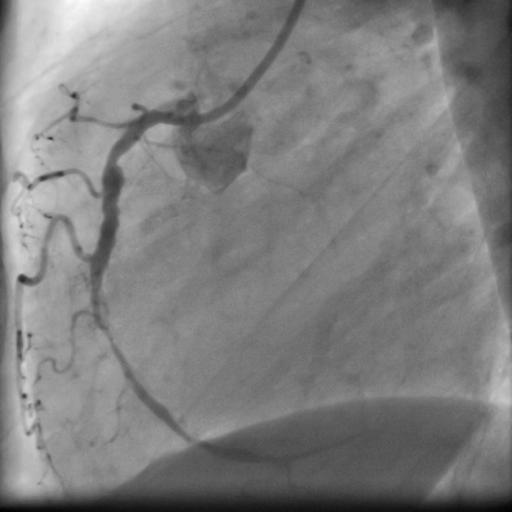Stenosis: (103, 147, 120, 167)
